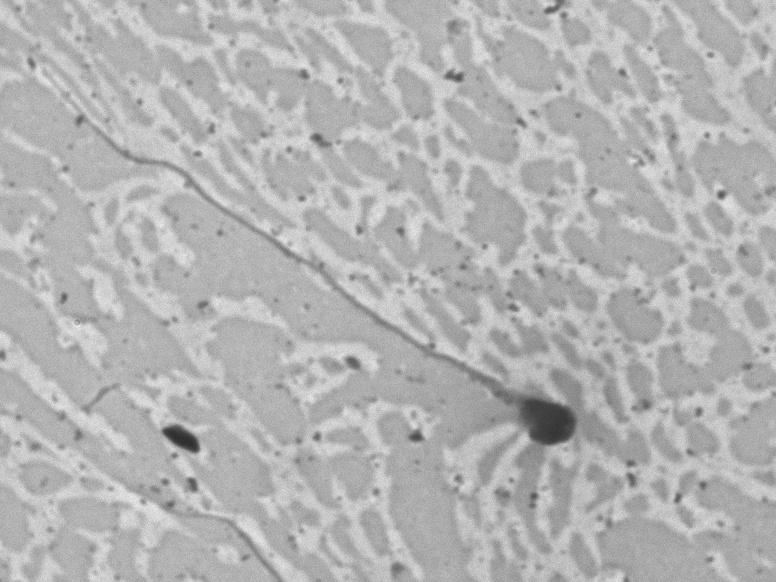Abnormal: (25, 52, 583, 458)
